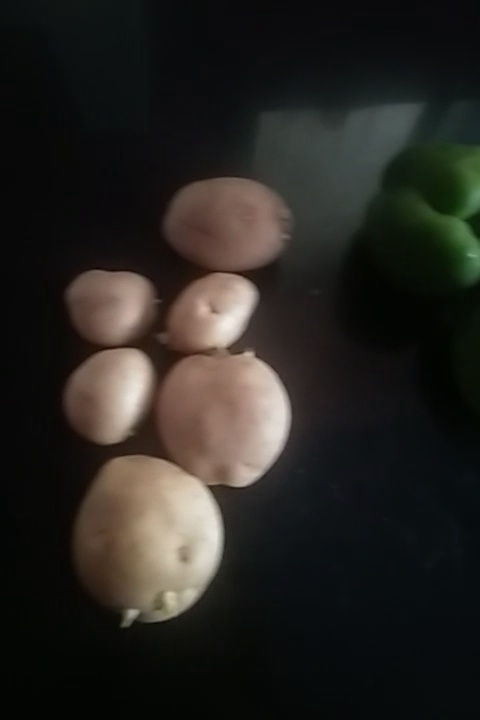capsicum: (385, 145, 480, 296)
potato: (84, 454, 228, 626), (161, 349, 275, 485), (166, 180, 311, 274), (65, 345, 162, 441), (66, 258, 166, 345), (167, 277, 274, 346)
